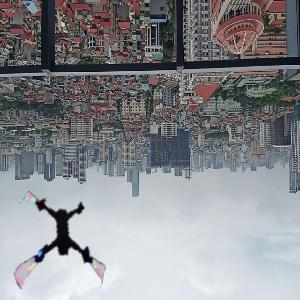drone: (13, 194, 117, 298)
